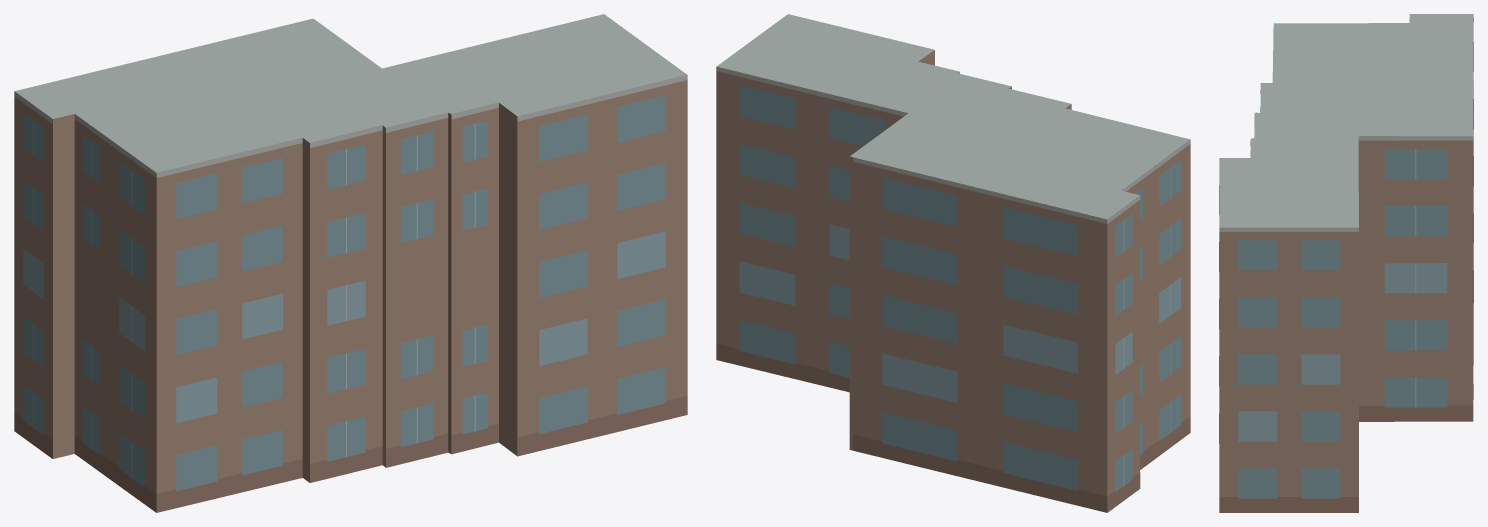
File: survey-upis-32576063.glb
3 renders of one model, left to right at view 1: azimuth 30°, elevation 25°; view 2: azimuth 150°, elevation 25°; view 3: azimuth 270°, elevation 25°, orthographic. The views are drawn at different scales.
Visible parts, largest first — view 1: survey-upis-32576063.tmp; view 2: survey-upis-32576063.tmp; view 3: survey-upis-32576063.tmp.
Boxes of the visible parts, left/top/right/bottom form: survey-upis-32576063.tmp: left=14, top=14, right=687, bottom=512; survey-upis-32576063.tmp: left=716, top=14, right=1190, bottom=512; survey-upis-32576063.tmp: left=1219, top=14, right=1473, bottom=512.
Size of the model in its own units: 25.7 by 16 by 12.94.
